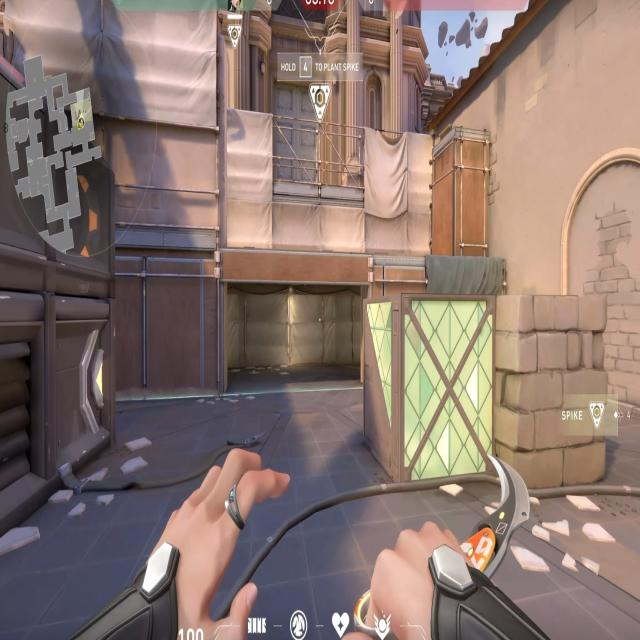A_Heaven_Box: (428, 126, 498, 262)
A_Heaven_Wall: (6, 2, 227, 247)
A_Hell: (198, 253, 391, 407)
A_Site_Box: (362, 287, 611, 496)
